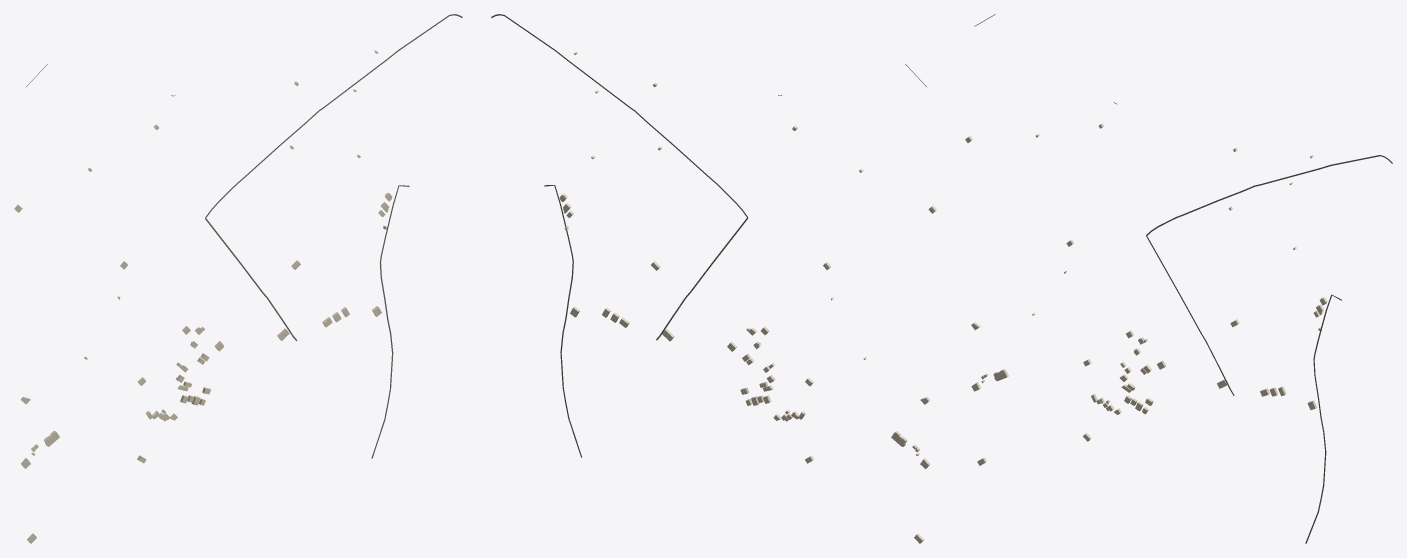
File: historic-palestine-01_18_3425_3129.glb
The picture shows the model from 3 angles, left to right: view 1: azimuth 30°, elevation 25°; view 2: azimuth 150°, elevation 25°; view 3: azimuth 330°, elevation 25°; orthographic projection. The views are drawn at different scales.
Visible parts, largest first — view 1: Road .001, Road .003; view 2: Road .001, Road .003; view 3: Road .001.
Part boxes in pixels (box(x1,y1,x2,y2)): Road .001: box(205, 14, 462, 218); Road .003: box(371, 185, 409, 458); Road .001: box(491, 14, 747, 217); Road .003: box(544, 185, 582, 457); Road .001: box(1146, 155, 1392, 235).
Bounding box in the file's own units: 1111 × 1131 × 8.7.
